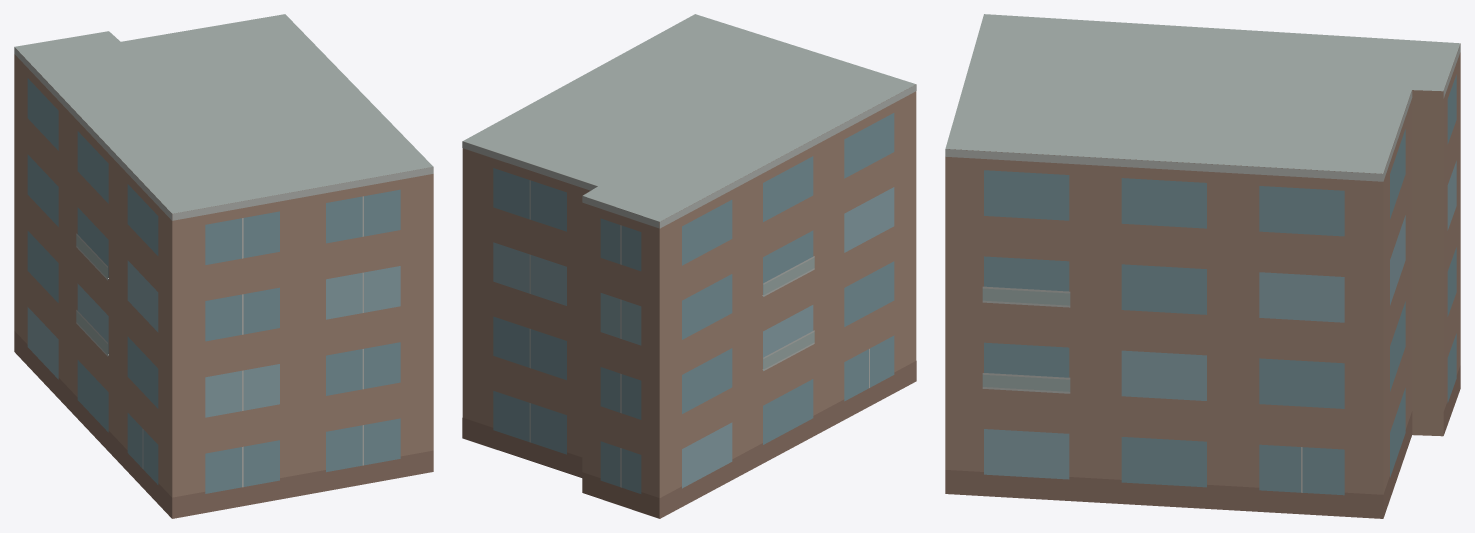
File: survey-upis-32488946.glb
3 renders of one model, left to right at view 1: azimuth 30°, elevation 25°; view 2: azimuth 150°, elevation 25°; view 3: azimuth 270°, elevation 25°, orthographic. The views are drawn at different scales.
Visible parts, largest first — view 1: survey-upis-32488946.tmp; view 2: survey-upis-32488946.tmp; view 3: survey-upis-32488946.tmp.
Boxes of the visible parts, bbox=[...] form: survey-upis-32488946.tmp: bbox=[14, 14, 433, 518]; survey-upis-32488946.tmp: bbox=[462, 14, 916, 518]; survey-upis-32488946.tmp: bbox=[945, 14, 1460, 518].
Size of the model in its own units: 10.54 by 10.6 by 14.36.
